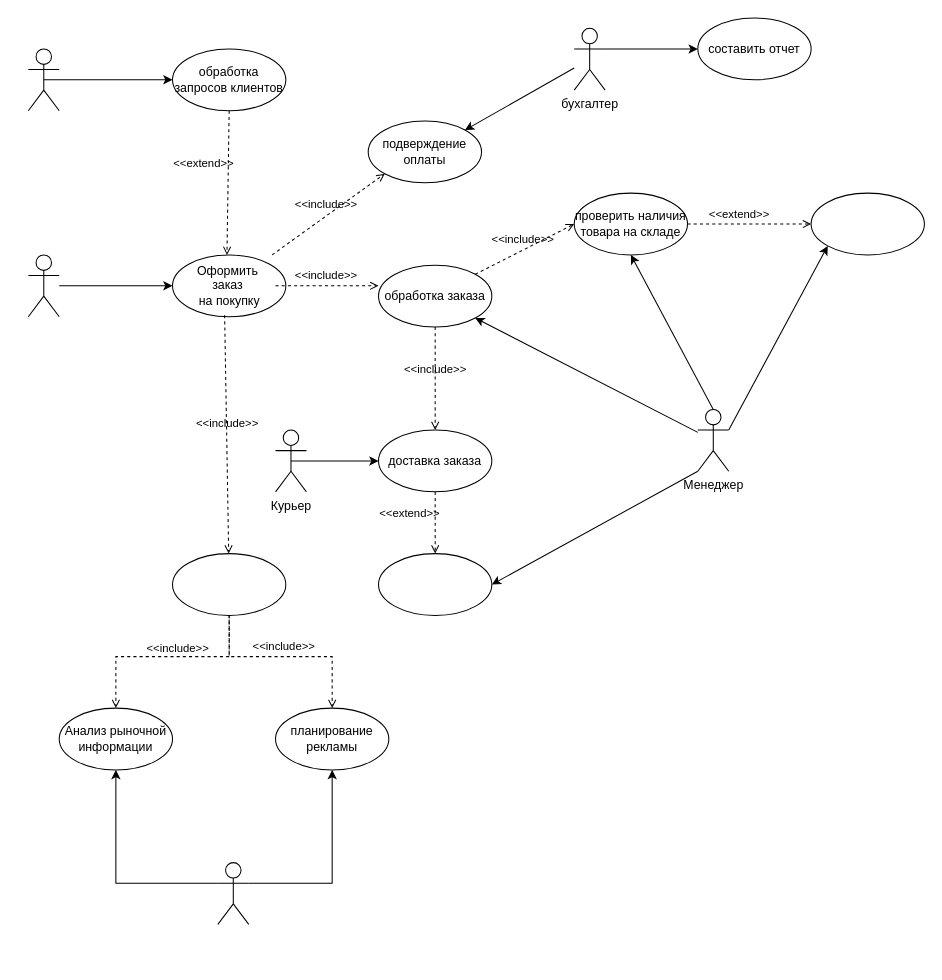
Image size: 942x980. Some labels were removed from this diagram. The box of each missing label's shape, as (x1, y1, x2, y2) in pixels:
Заказать товар со склада: (810, 192, 924, 255)
Клиент: (27, 254, 59, 317)
Оставить отзыв о товаре: (171, 553, 286, 615)
Отслежить статуса доставки: (377, 553, 492, 615)
специалст по маркетингу: (217, 862, 249, 924)
Чат боты: (27, 48, 59, 111)
